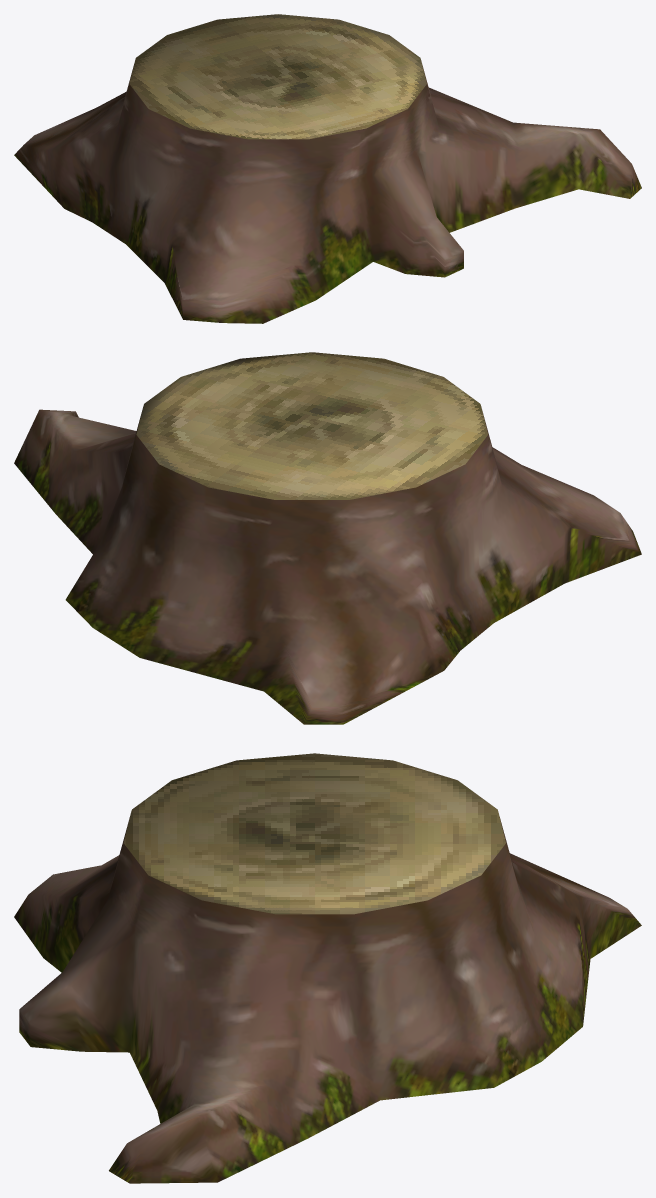
File: STUMP.fbx
3 renders of one model, top to bottom at view 1: azimuth 30°, elevation 25°; view 2: azimuth 150°, elevation 25°; view 3: azimuth 270°, elevation 25°, orthographic. The views are drawn at different scales.
Parts seen in each view (by area): view 1: STUMP; view 2: STUMP; view 3: STUMP.
Part boxes in pixels (x1,y1,x2,y2): STUMP: [14, 14, 641, 323]; STUMP: [14, 352, 641, 724]; STUMP: [14, 753, 641, 1183].
Size of the model in its own units: 27153 by 7023 by 24002.
2 materials, 2 textured.
